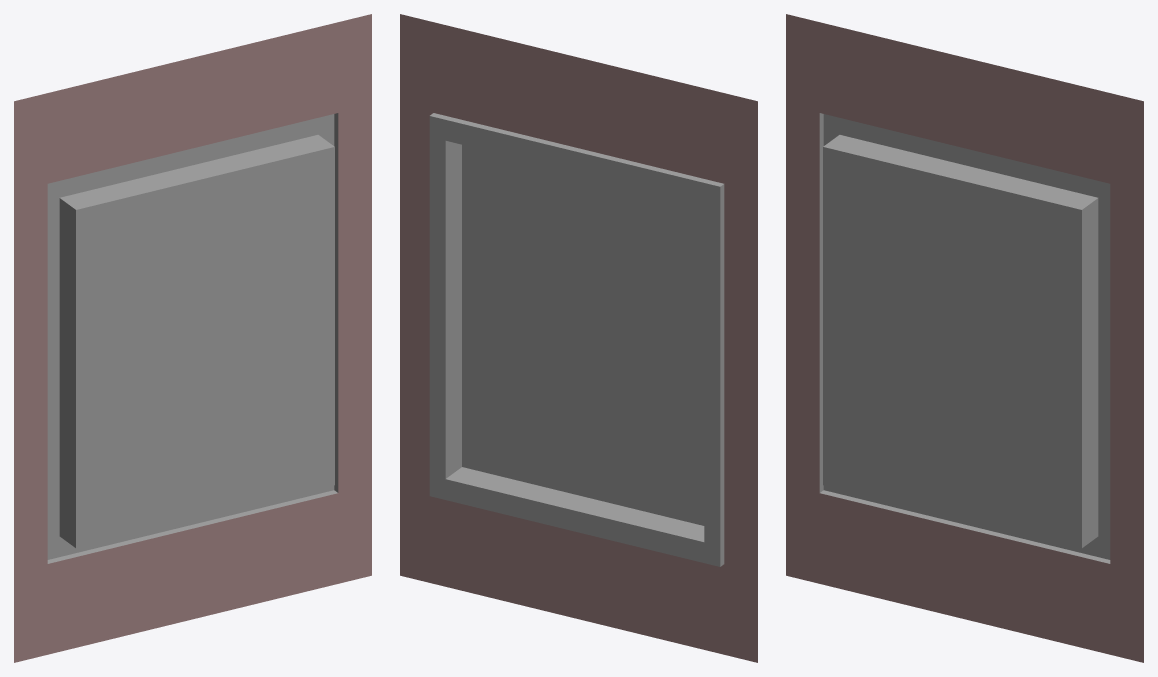
Rendered from 2x3PlainWindowTile.fbx.
3 views of the same model, side by side, from view 1: azimuth 30°, elevation 25°; view 2: azimuth 150°, elevation 25°; view 3: azimuth 330°, elevation 25° (orthographic).
Visible parts, largest first — view 1: pCube111, pCube112; view 2: pCube111, pCube112; view 3: pCube111, pCube112.
Part boxes in pixels (bbox=[...]): pCube111: bbox=[47, 113, 338, 563]; pCube112: bbox=[14, 14, 371, 662]; pCube111: bbox=[429, 113, 724, 566]; pCube112: bbox=[400, 14, 757, 662]; pCube111: bbox=[819, 113, 1110, 563]; pCube112: bbox=[786, 14, 1143, 662].
Size of the model in its own units: 2 by 3 by 0.1606.
